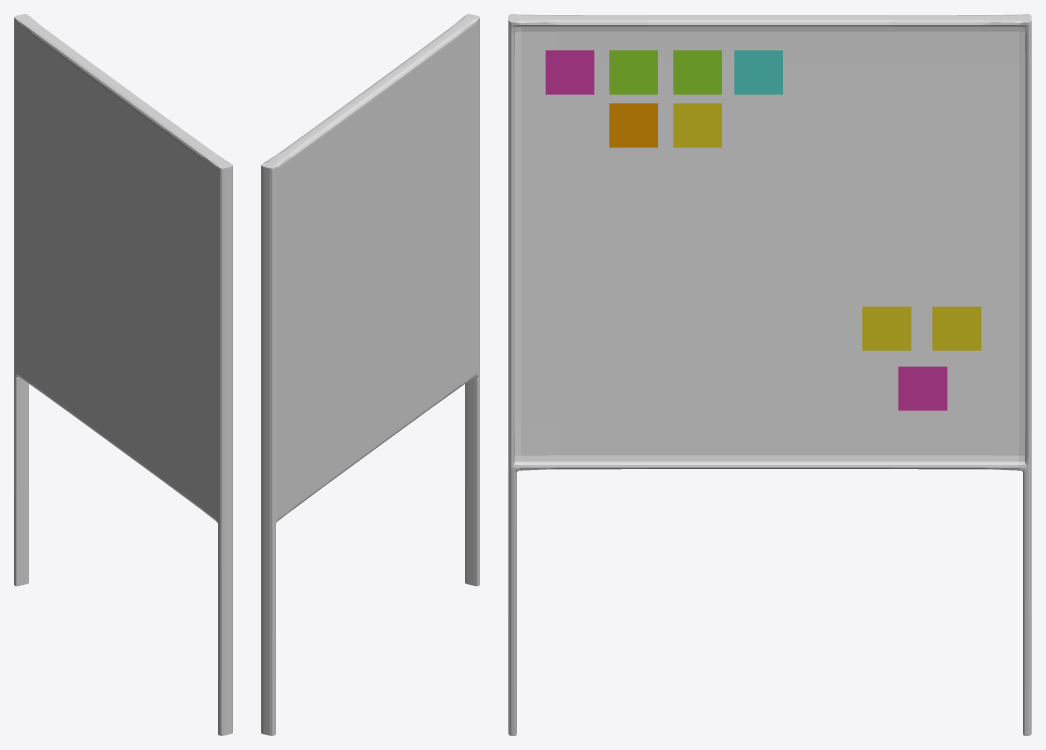
File: various_boards.fbx
3 views of the same model, side by side, from view 1: azimuth 30°, elevation 25°; view 2: azimuth 150°, elevation 25°; view 3: azimuth 270°, elevation 25° (orthographic). The views are drawn at different scales.
Visible parts, largest first — view 1: Cube; view 2: Cube; view 3: Cube, Plane.
Boxes of the visible parts, x1=… form: Cube: x1=14, y1=14, x2=232, y2=735; Cube: x1=261, y1=14, x2=479, y2=735; Cube: x1=508, y1=14, x2=1031, y2=735; Plane: x1=545, y1=50, x2=981, y2=410.
Size of the model in its own units: 14.28 by 575 by 382.
